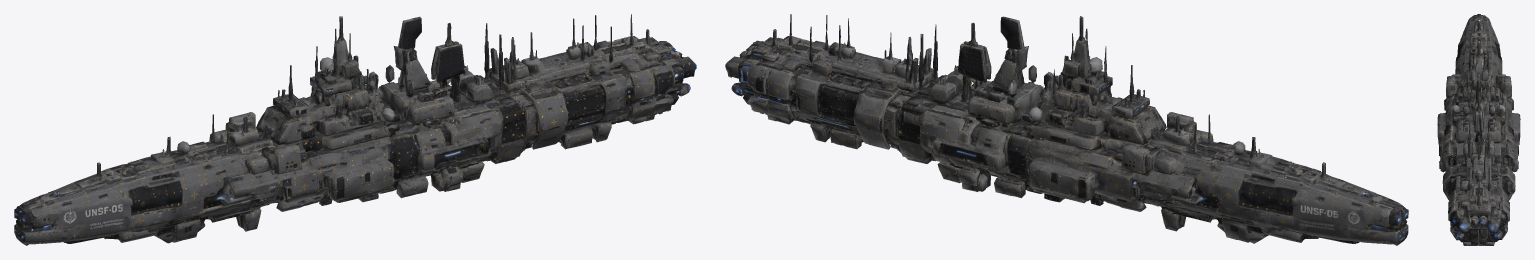
The model's file is 전자전함.glb.
3 views of the same model, side by side, from view 1: azimuth 30°, elevation 25°; view 2: azimuth 150°, elevation 25°; view 3: azimuth 270°, elevation 25° (orthographic). The views are drawn at different scales.
Parts seen in each view (by area): view 1: Mesh_0; view 2: Mesh_0; view 3: Mesh_0.
Part boxes in pixels (<box>): Mesh_0: <box>14,14,696,245</box>; Mesh_0: <box>725,14,1408,245</box>; Mesh_0: <box>1437,14,1520,245</box>.
Size of the model in its own units: 1.91 by 0.5206 by 0.3202.
Materials: 1 (1 with a texture image).
